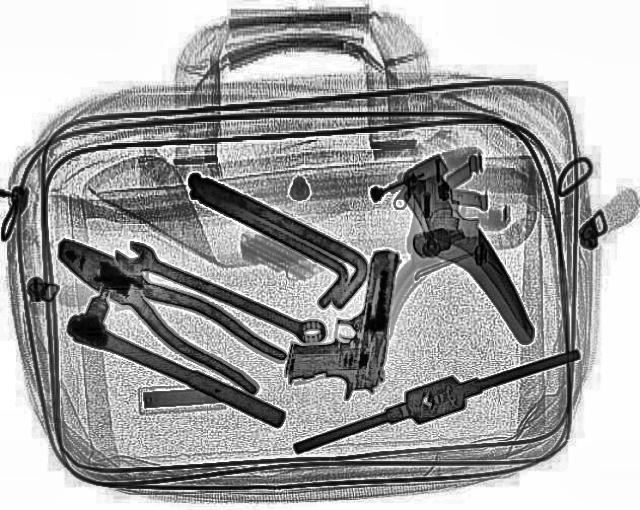Gun: (280, 244, 400, 400)
Pliers: (31, 222, 296, 395)
Wrench: (106, 234, 336, 348)
